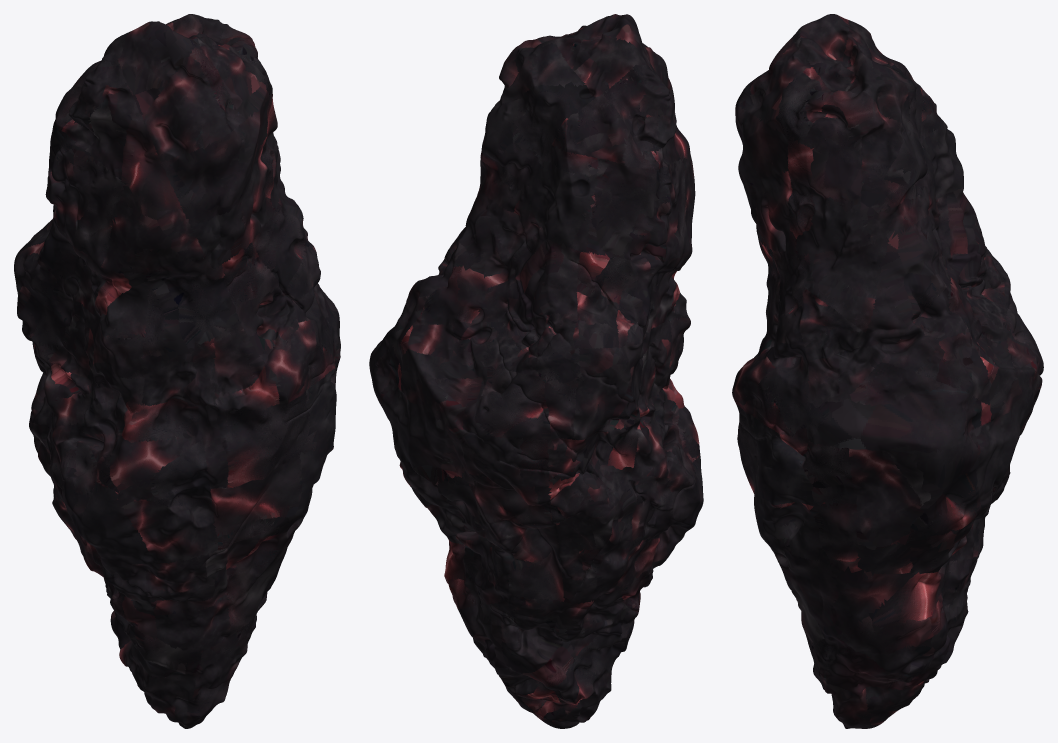
File: shard-04.glb
The picture shows the model from 3 angles, left to right: view 1: azimuth 30°, elevation 25°; view 2: azimuth 150°, elevation 25°; view 3: azimuth 270°, elevation 25°; orthographic projection. The views are drawn at different scales.
Visible parts, largest first — view 1: Mesh_0; view 2: Mesh_0; view 3: Mesh_0.
Part boxes in pixels (bbox=[...]): Mesh_0: bbox=[14, 14, 340, 728]; Mesh_0: bbox=[369, 14, 703, 728]; Mesh_0: bbox=[732, 14, 1043, 728].
Size of the model in its own units: 0.7921 by 1.9 by 0.7748.
1 material, 1 textured.
